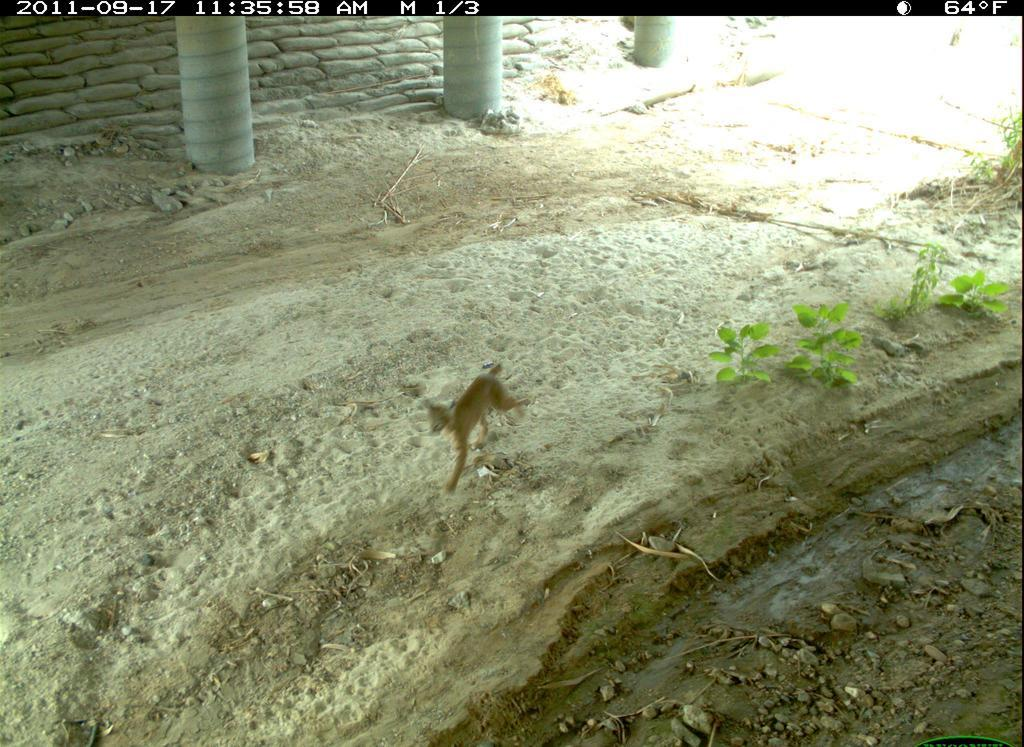bobcat: (417, 356, 543, 497)
